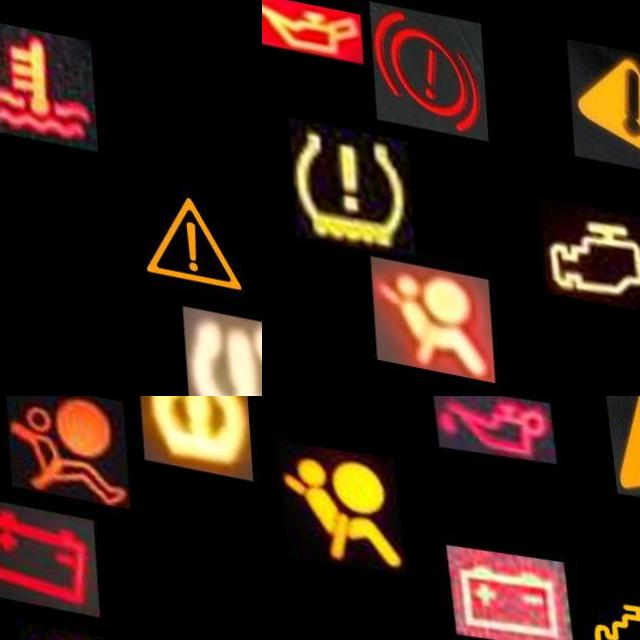Central Warning lamp: (126, 163, 250, 300), (567, 23, 640, 158), (599, 396, 640, 489)
Engine cooling system: (0, 17, 95, 147)
